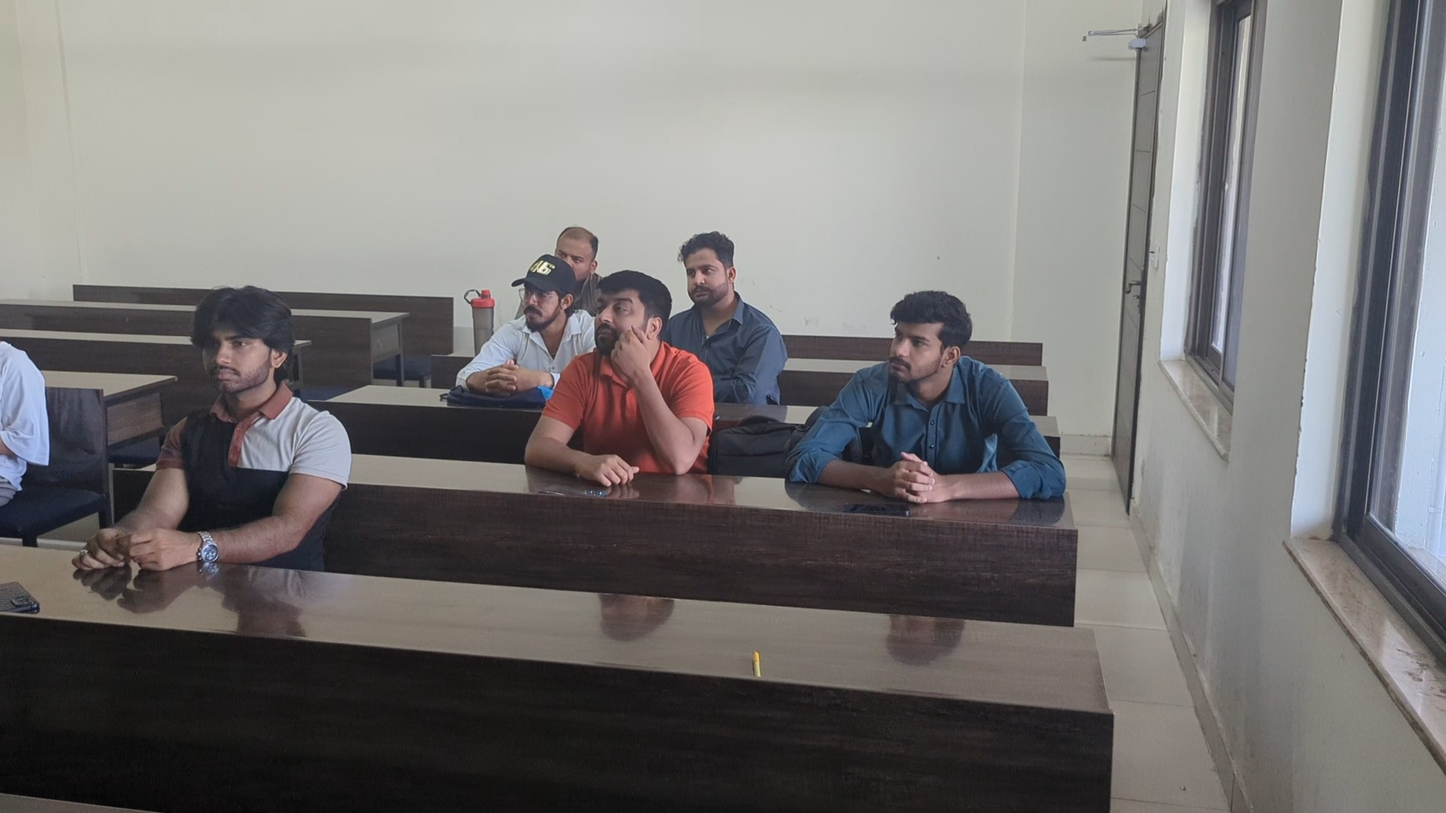look_forward: (77, 280, 348, 596), (791, 284, 1075, 498), (526, 268, 713, 483), (676, 228, 793, 401), (465, 252, 591, 393)
